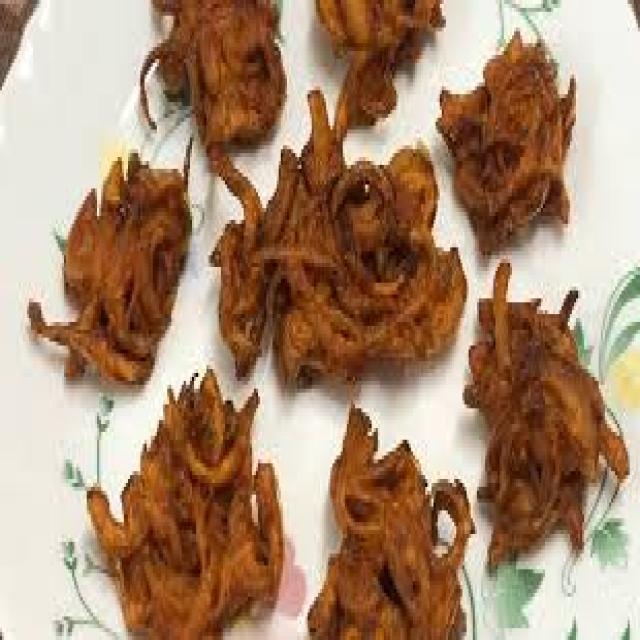BAJI: (215, 90, 470, 383), (86, 365, 282, 636), (463, 261, 628, 569), (307, 405, 475, 636), (26, 154, 193, 381), (440, 44, 577, 257), (141, 0, 284, 152), (313, 0, 440, 145)
